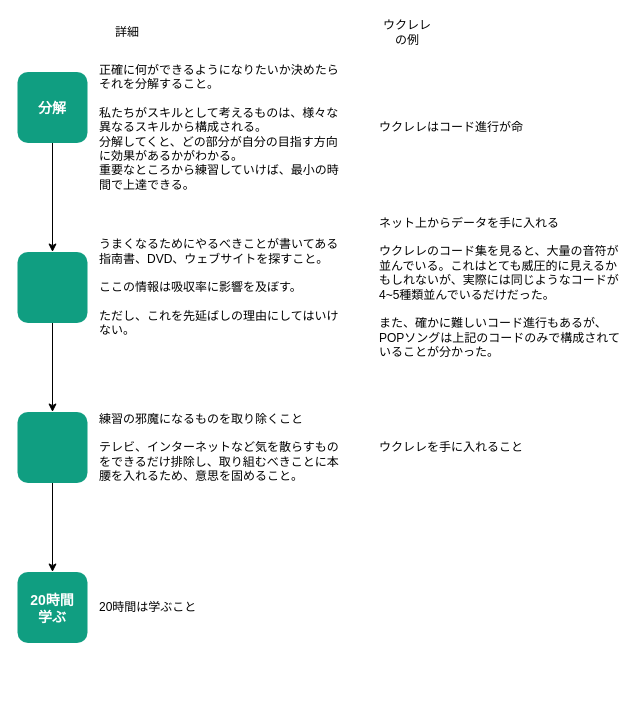
Image size: 644x704. Some labels were removed from this diagram. The centre of each missing label's shape, as x and y in pixels:
"情報源 選定" goes at (x=52, y=287).
"障害物 除外" goes at (x=52, y=447).
